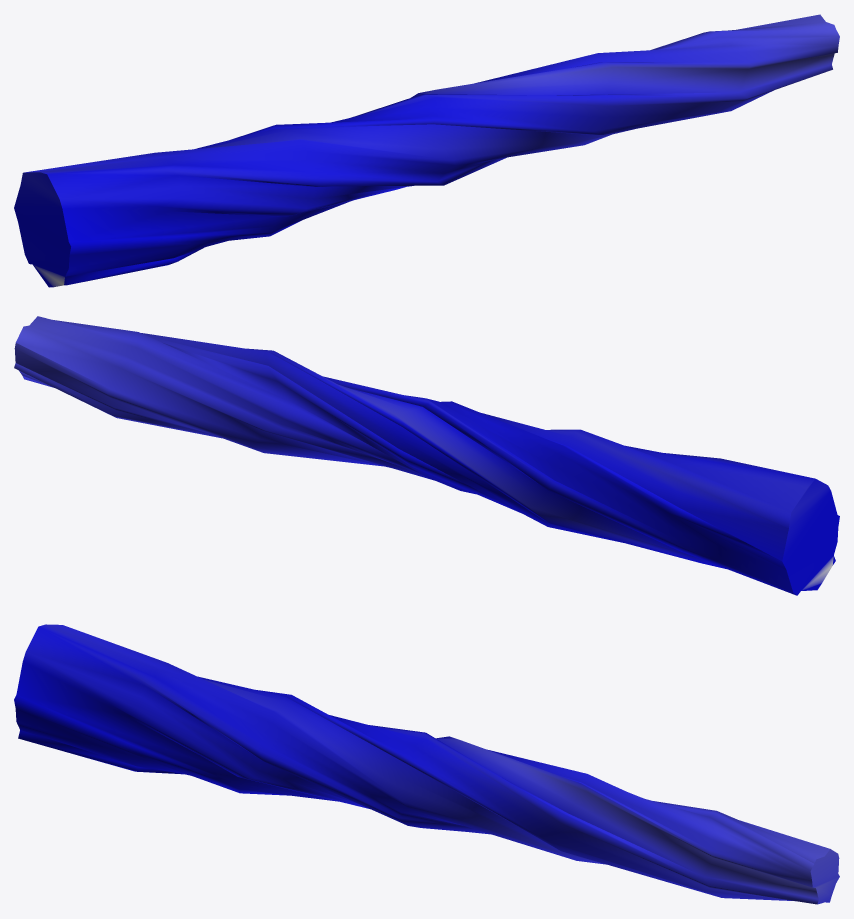
Rendered from BirowLog.fbx.
The picture shows the model from 3 angles, top to bottom: view 1: azimuth 30°, elevation 25°; view 2: azimuth 150°, elevation 25°; view 3: azimuth 330°, elevation 25°; orthographic projection.
Visible parts, largest first — view 1: Birow.Log_LOD0; view 2: Birow.Log_LOD0; view 3: Birow.Log_LOD0.
Boxes of the visible parts, box(x1,y1,x2,y2) form: Birow.Log_LOD0: box(14, 14, 839, 287); Birow.Log_LOD0: box(14, 316, 839, 595); Birow.Log_LOD0: box(14, 624, 839, 904).
Size of what is drawn, in the model's own units: 372 by 51.11 by 48.82.
